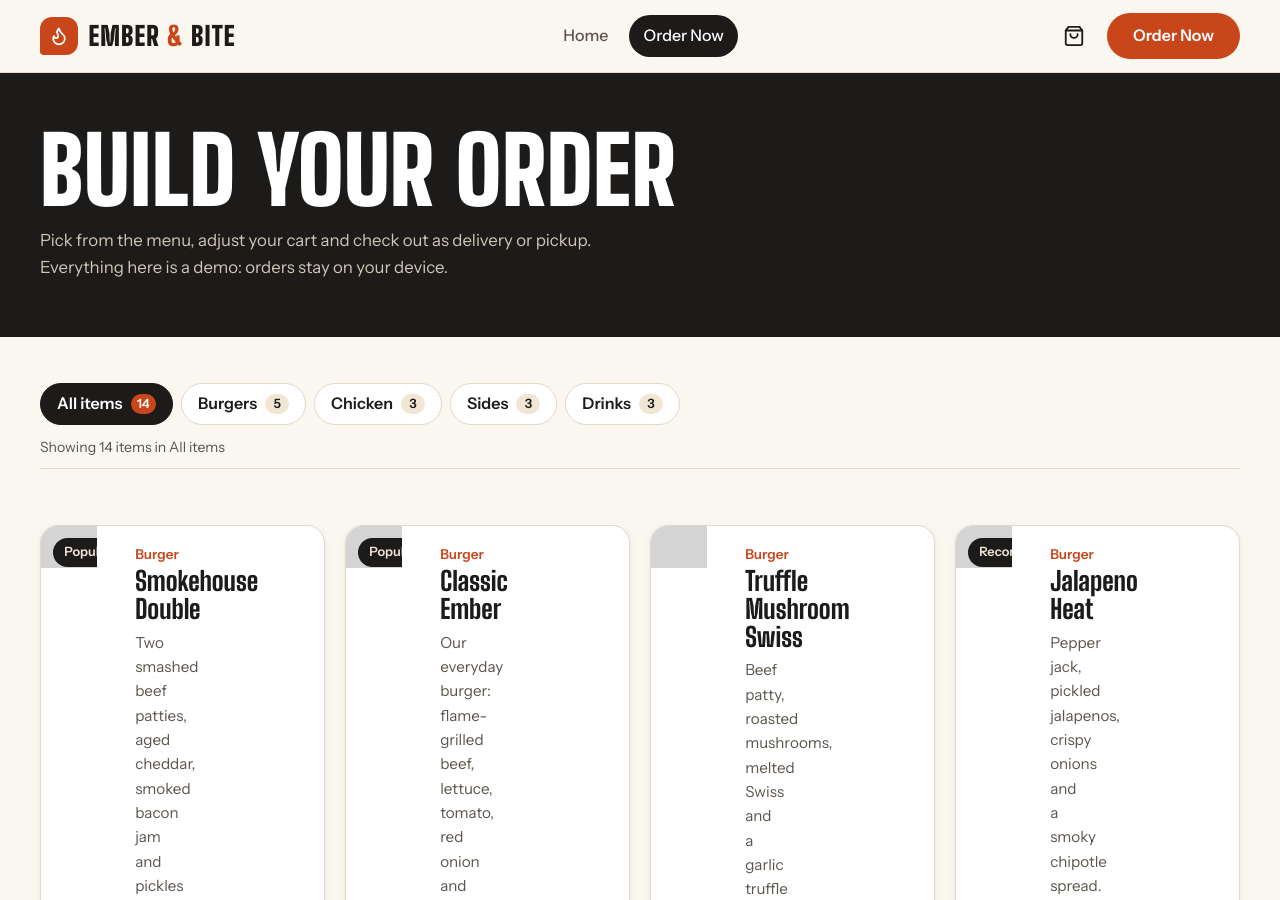
Test: EMBER & BITE app › filters the menu by category
Expected: the heading "Build your order" is shown, [40,129,676,212]
Click the button "Drinks 3": (623, 404) [565,383,680,425]
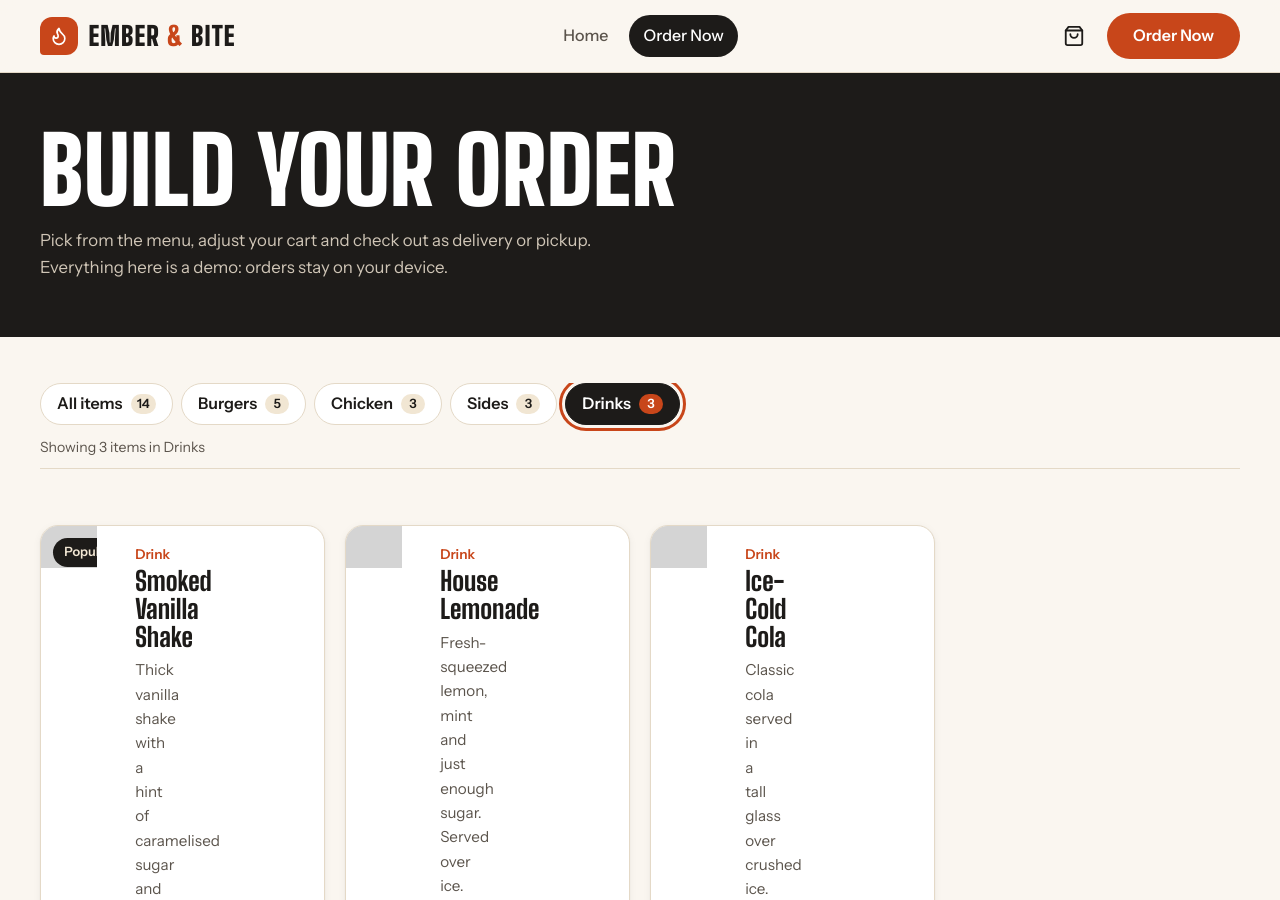
Now the text "Showing 3 items in Drinks" is shown, box [40,438,205,456]
Now the heading "Smokehouse Double" is gone
